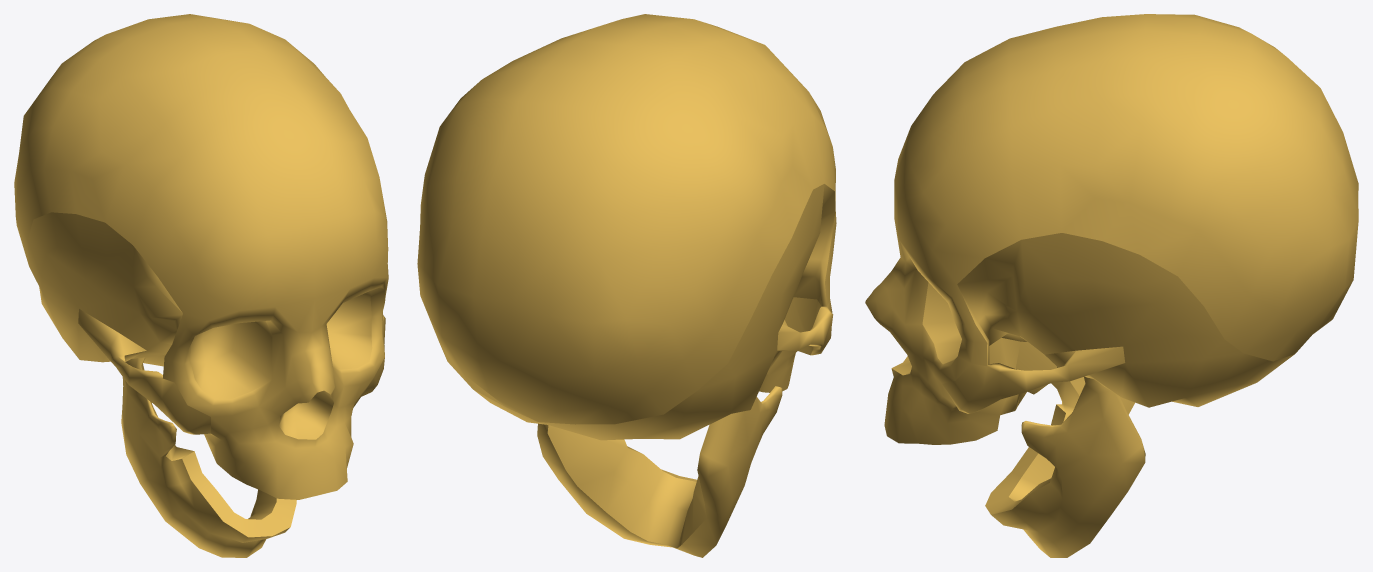
File: p7_zm_power_up_insta_kill.glb
The picture shows the model from 3 angles, left to right: view 1: azimuth 30°, elevation 25°; view 2: azimuth 150°, elevation 25°; view 3: azimuth 270°, elevation 25°; orthographic projection. The views are drawn at different scales.
Parts seen in each view (by area): view 1: p7_zm_power_up_insta_kill_mesh; view 2: p7_zm_power_up_insta_kill_mesh; view 3: p7_zm_power_up_insta_kill_mesh.
Boxes of the visible parts, x1=… form: p7_zm_power_up_insta_kill_mesh: x1=14, y1=14, x2=388, y2=557; p7_zm_power_up_insta_kill_mesh: x1=417, y1=14, x2=836, y2=557; p7_zm_power_up_insta_kill_mesh: x1=865, y1=14, x2=1358, y2=557.
Size of the model in its own units: 15.79 by 24.6 by 21.2.
